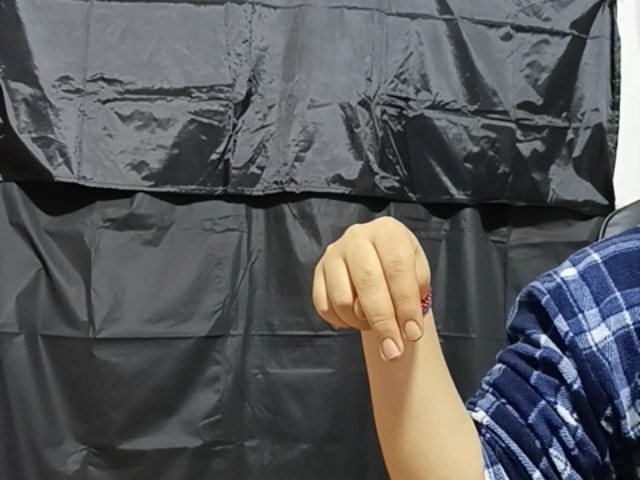N: (301, 202, 462, 372)
